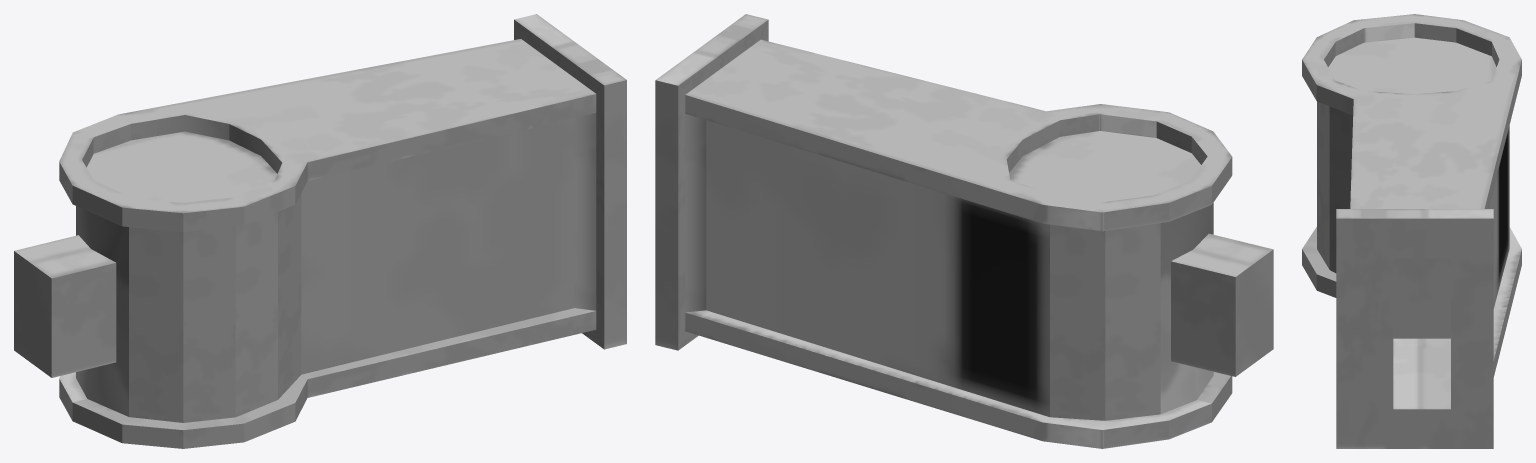
The model's file is whistle.fbx.
3 views of the same model, side by side, from view 1: azimuth 30°, elevation 25°; view 2: azimuth 150°, elevation 25°; view 3: azimuth 270°, elevation 25° (orthographic). The views are drawn at different scales.
Parts seen in each view (by area): view 1: pCylinder1; view 2: pCylinder1; view 3: pCylinder1.
Boxes of the visible parts, box(x1,y1,x2,y2) form: pCylinder1: box(14, 14, 626, 448); pCylinder1: box(655, 14, 1273, 448); pCylinder1: box(1302, 14, 1521, 448).
Size of the model in its own units: 582 by 267 by 231.
